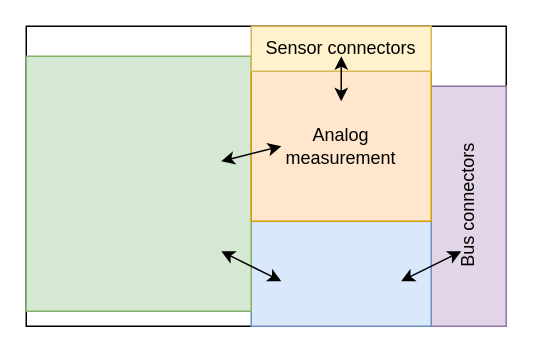
This 533x353 diagram has some shape labels left out. The shapes that lost their labels are listed below. From the top down, each one's centre as x and y in pixels, then its label:
At pixel 138 183: "ESP32".
At pixel 340 273: "CAN".
